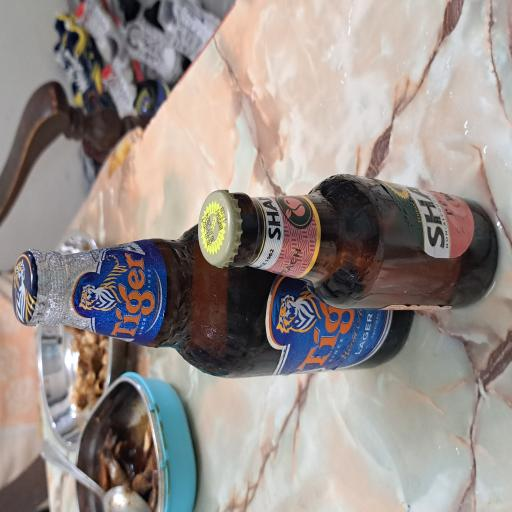glass bottle: (99, 12, 218, 512), (153, 260, 251, 512)
